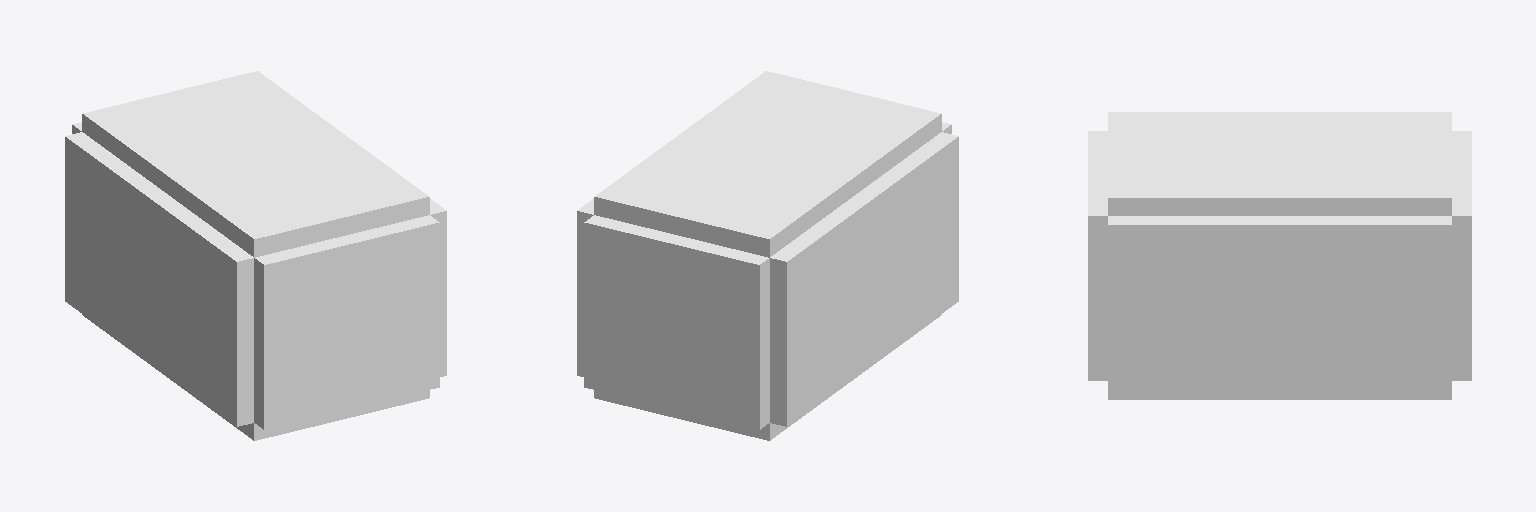
Rendered from Preta-5.obj.
3 views of the same model, side by side, from view 1: azimuth 30°, elevation 25°; view 2: azimuth 150°, elevation 25°; view 3: azimuth 270°, elevation 25° (orthographic).
Visible parts, largest first — view 1: object 1; view 2: object 1; view 3: object 1.
Part boxes in pixels (bbox=[...]): object 1: bbox=[65, 71, 446, 440]; object 1: bbox=[577, 71, 958, 440]; object 1: bbox=[1088, 112, 1471, 399].
Size of the model in its own units: 1.2 by 1.1 by 1.9.